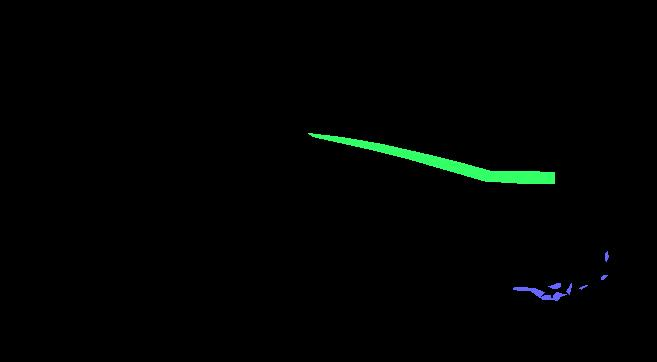Broken part: (308, 133, 554, 183)
Scratch: (513, 287, 544, 297), (552, 292, 566, 300), (548, 283, 560, 288), (566, 283, 571, 294), (540, 295, 551, 299), (579, 285, 587, 289), (605, 251, 608, 261), (601, 275, 607, 279)
